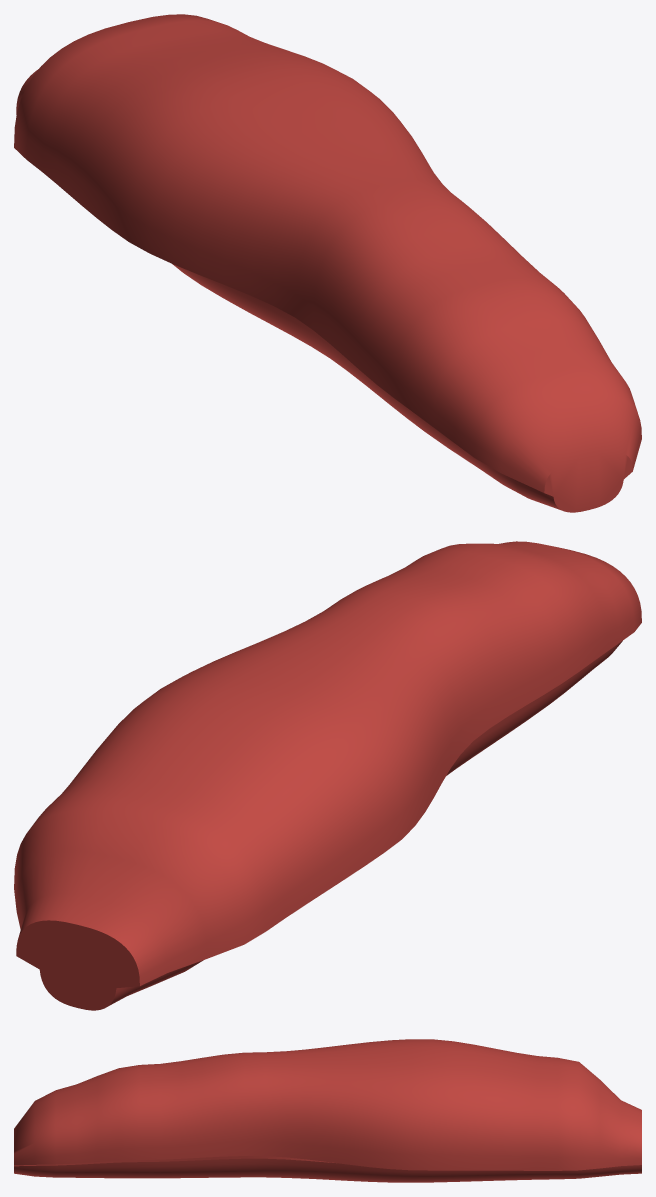
File: cafe.glb
3 renders of one model, top to bottom at view 1: azimuth 30°, elevation 25°; view 2: azimuth 150°, elevation 25°; view 3: azimuth 270°, elevation 25°, orthographic. The views are drawn at different scales.
Visible parts, largest first — view 1: lod0; view 2: lod0; view 3: lod0.
Part boxes in pixels (x1=…): lod0: x1=14, y1=14, x2=641, y2=512; lod0: x1=14, y1=541, x2=641, y2=1010; lod0: x1=14, y1=1039, x2=641, y2=1182.
Size of what is drawn, in the model's own units: 0.3094 by 0.1999 by 1.
